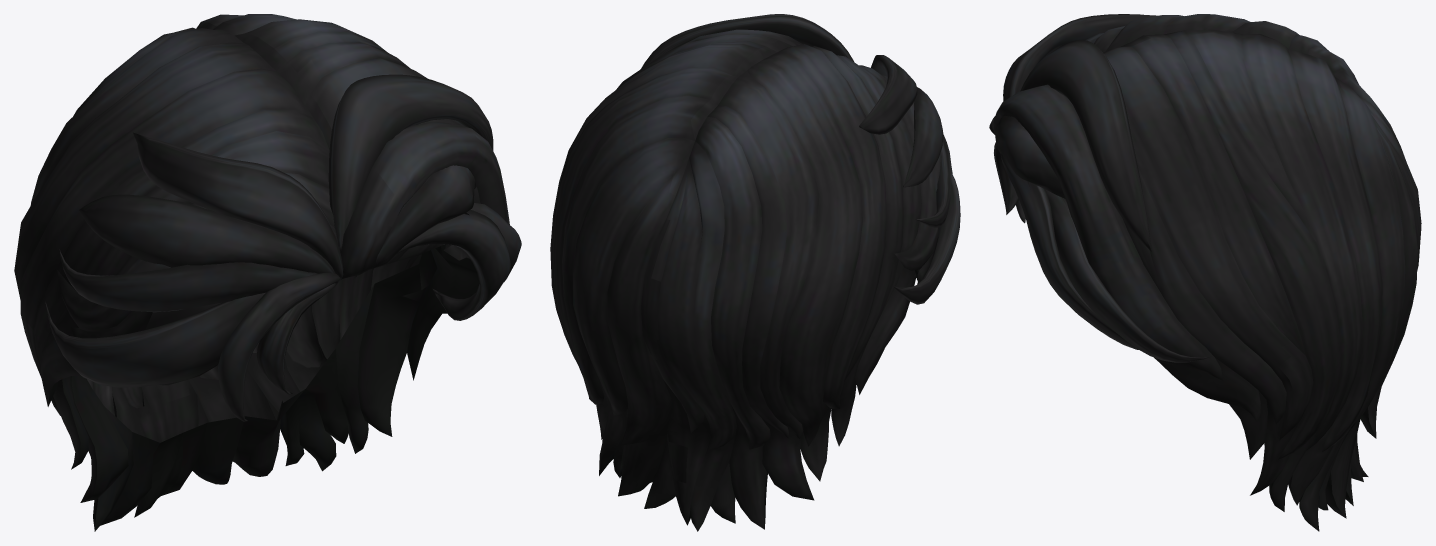
File: hair18.glb
3 renders of one model, left to right at view 1: azimuth 30°, elevation 25°; view 2: azimuth 150°, elevation 25°; view 3: azimuth 270°, elevation 25°, orthographic. The views are drawn at different scales.
Visible parts, largest first — view 1: s4studio_mesh_1; view 2: s4studio_mesh_1; view 3: s4studio_mesh_1.
Boxes of the visible parts, bbox=[...] form: s4studio_mesh_1: bbox=[14, 14, 521, 531]; s4studio_mesh_1: bbox=[550, 14, 960, 531]; s4studio_mesh_1: bbox=[989, 14, 1421, 531].
Size of the model in its own units: 0.1899 by 0.2192 by 0.1848.
1 material, 1 textured.
